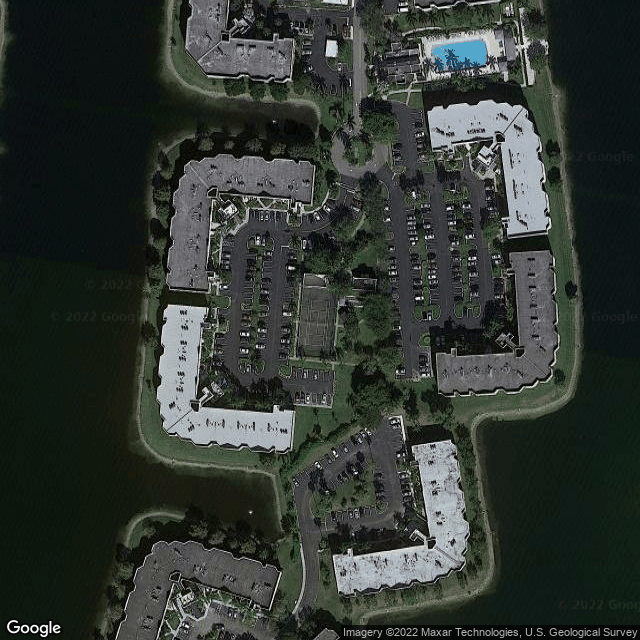Court: (305, 297, 328, 348)
